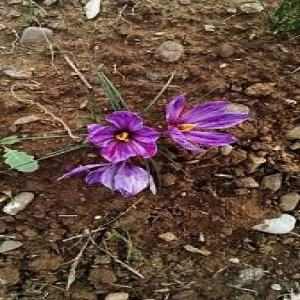Saffron: (168, 95, 246, 154), (86, 111, 160, 157), (74, 162, 156, 193)
